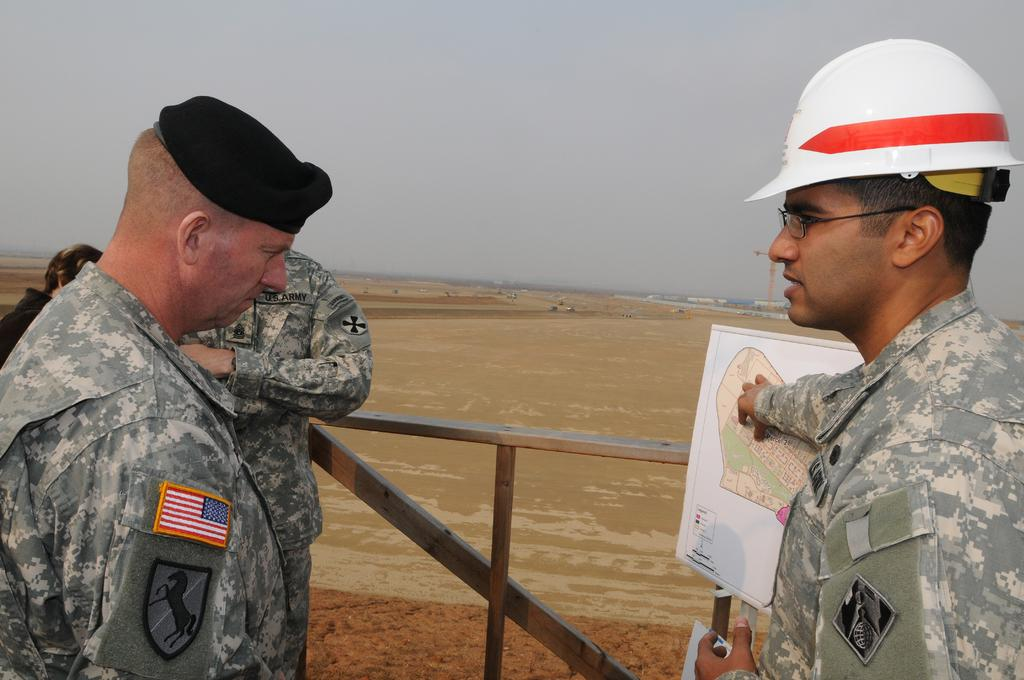Hat: (152, 94, 338, 234)
